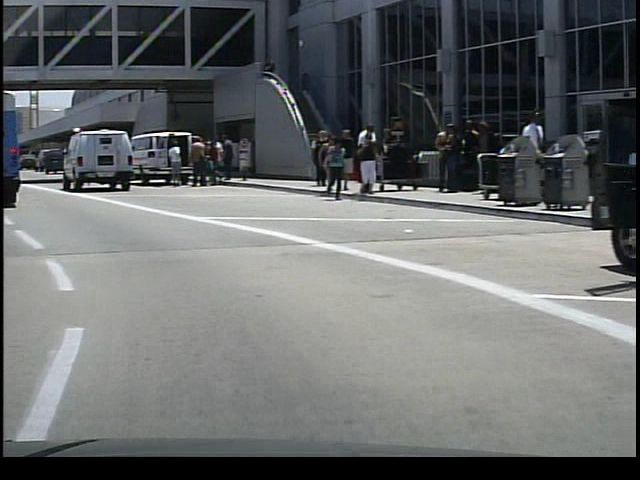person: (508, 106, 541, 200), (350, 122, 379, 195), (351, 134, 375, 197), (184, 136, 206, 189), (213, 132, 234, 181), (163, 135, 181, 189)
